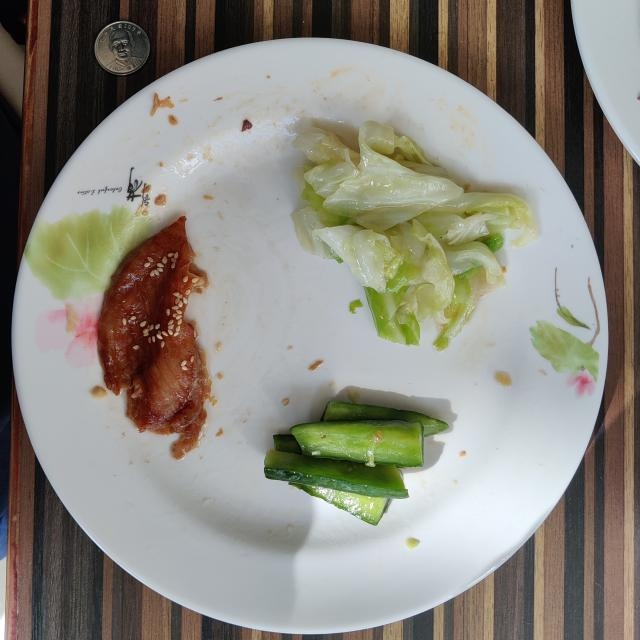Kabayaki sea bream fillet: (98, 216, 211, 459)
cabbage: (292, 121, 538, 350)
coin: (95, 21, 150, 75)
cucumber: (264, 401, 449, 525)
